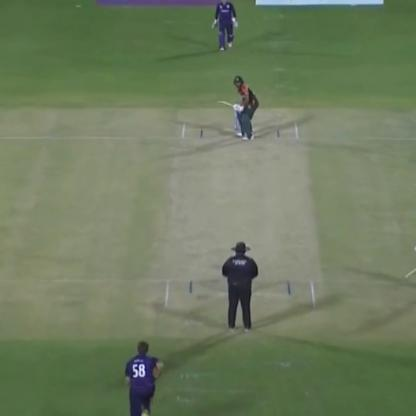bat: (210, 94, 238, 113)
pitch: (160, 116, 306, 305)
